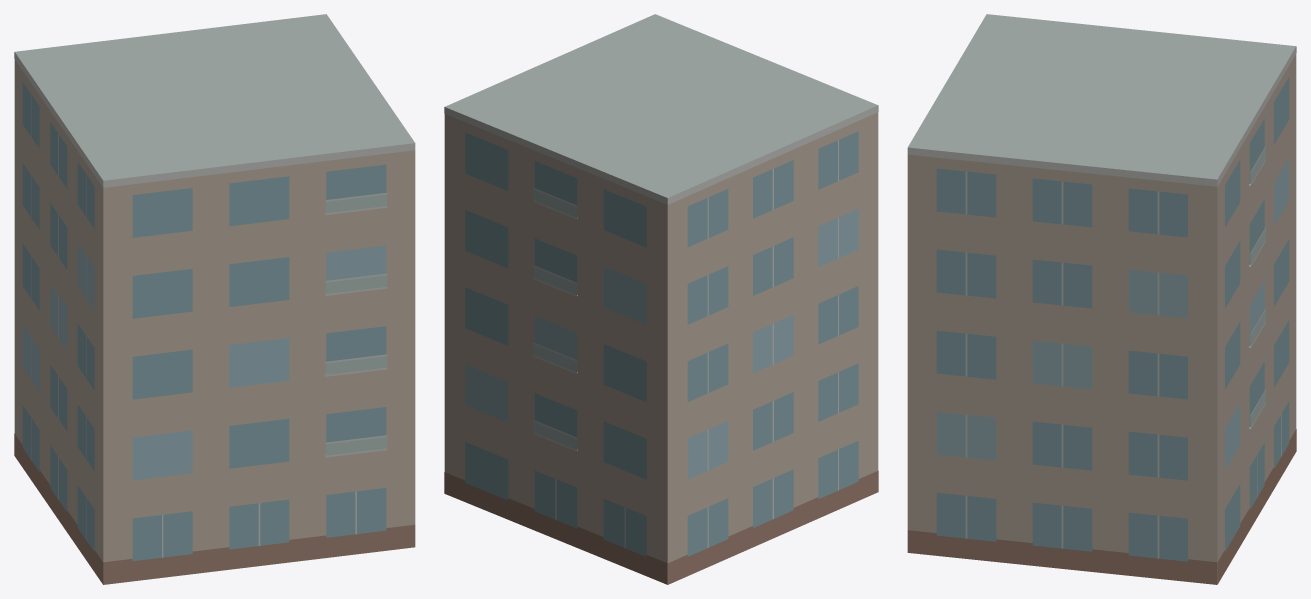
The model's file is survey-upis-32879279.glb.
The picture shows the model from 3 angles, left to right: view 1: azimuth 30°, elevation 25°; view 2: azimuth 150°, elevation 25°; view 3: azimuth 270°, elevation 25°; orthographic projection. The views are drawn at different scales.
Visible parts, largest first — view 1: survey-upis-32879279.tmp; view 2: survey-upis-32879279.tmp; view 3: survey-upis-32879279.tmp.
Part boxes in pixels (bbox=[...]): survey-upis-32879279.tmp: bbox=[14, 14, 415, 584]; survey-upis-32879279.tmp: bbox=[444, 14, 878, 584]; survey-upis-32879279.tmp: bbox=[907, 14, 1296, 584].
Bounding box in the file's own units: 12.19 × 13.9 × 12.09.
